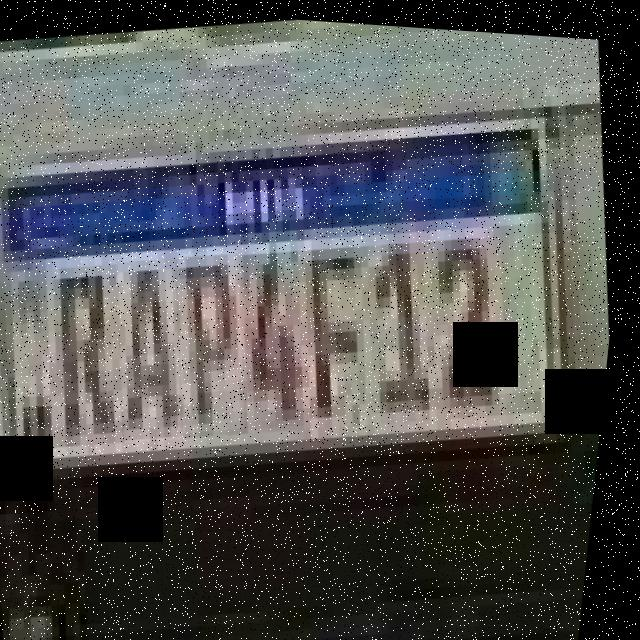1: (364, 231, 456, 418)
4: (233, 233, 328, 428)
A: (109, 253, 206, 445)
F: (293, 229, 394, 427)
P: (168, 243, 268, 435)
R: (43, 260, 143, 445)
